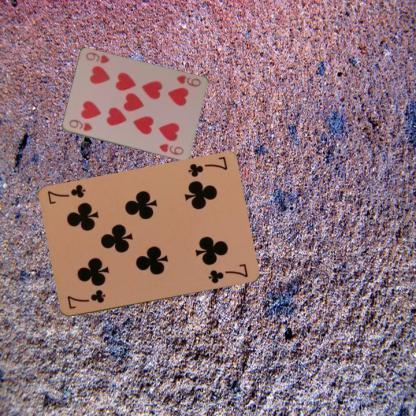7c: (185, 154, 229, 179), (64, 287, 107, 311)
9h: (173, 73, 202, 88), (66, 118, 94, 132)
